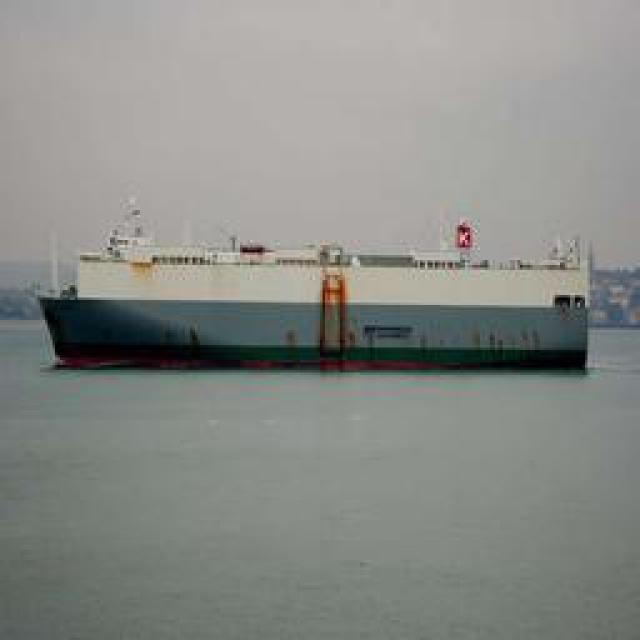Ship: (54, 232, 604, 362)
